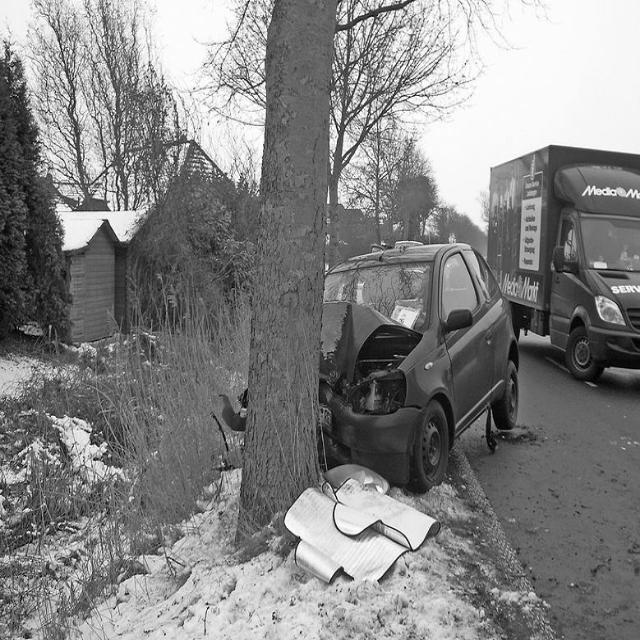crush: (319, 300, 423, 467)
